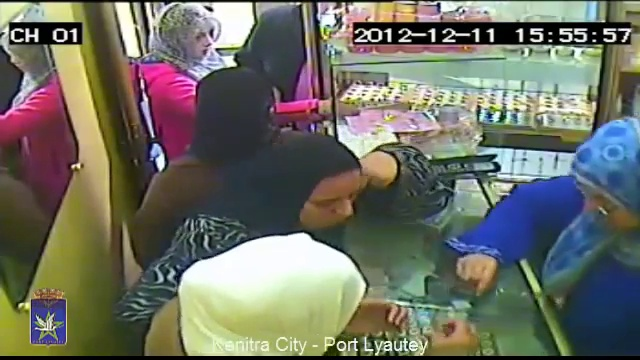face: (304, 177, 357, 230), (181, 26, 212, 60)
